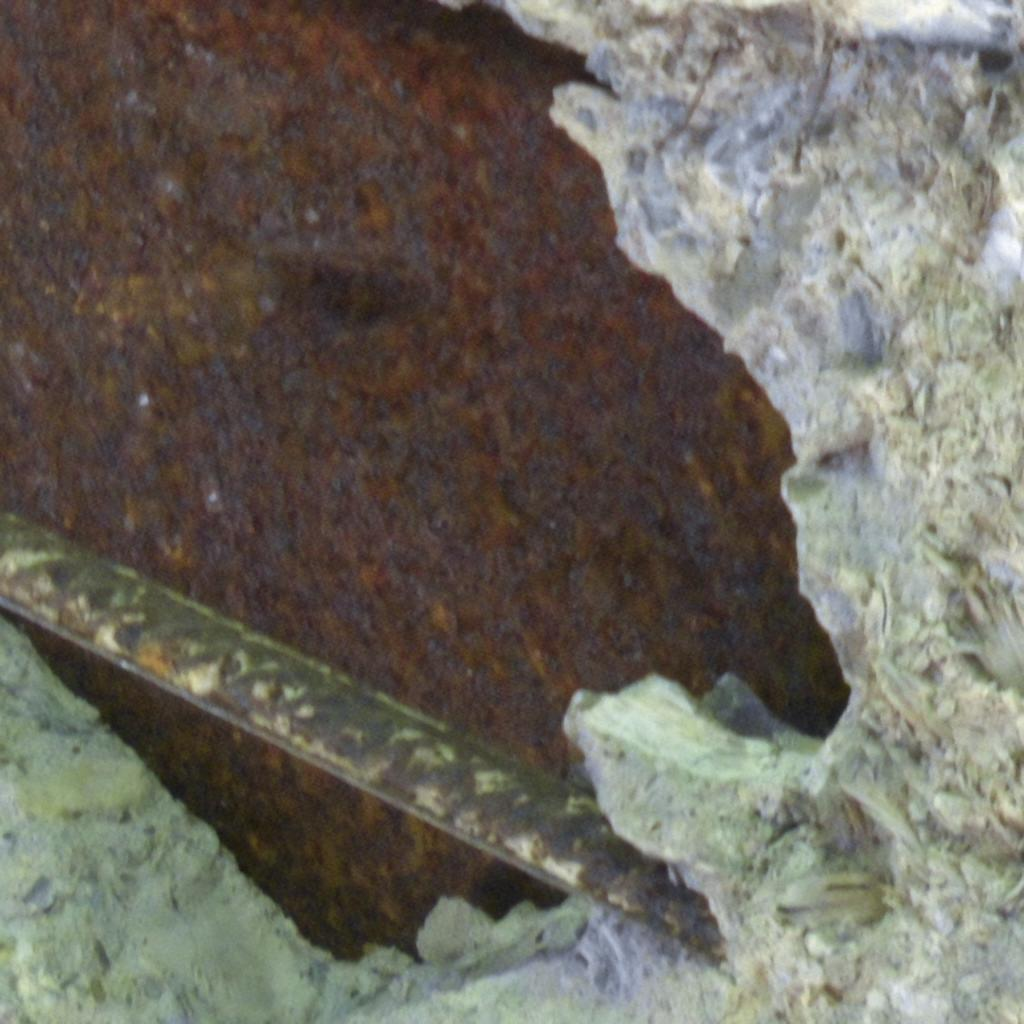spalling: (0, 0, 848, 956), (0, 513, 720, 957)
